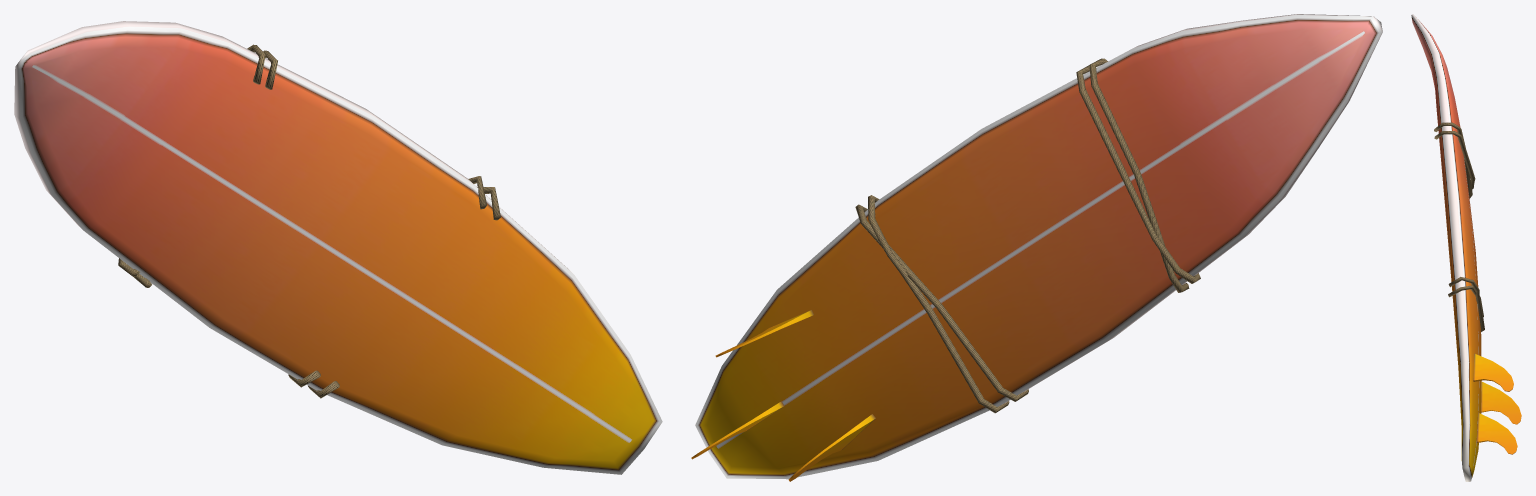
File: board2.glb
3 views of the same model, side by side, from view 1: azimuth 30°, elevation 25°; view 2: azimuth 150°, elevation 25°; view 3: azimuth 270°, elevation 25° (orthographic). The views are drawn at different scales.
Parts seen in each view (by area): view 1: Surfboard.2; view 2: Surfboard.2; view 3: Surfboard.2.
Boxes of the visible parts, x1,y1,x2,y2 form: Surfboard.2: (14,21,662,474); Surfboard.2: (691,14,1382,481); Surfboard.2: (1411,14,1521,481).
Bounding box in the file's own units: 0.0168 × 0.0143 × 0.00461.
2 materials, 2 textured.
